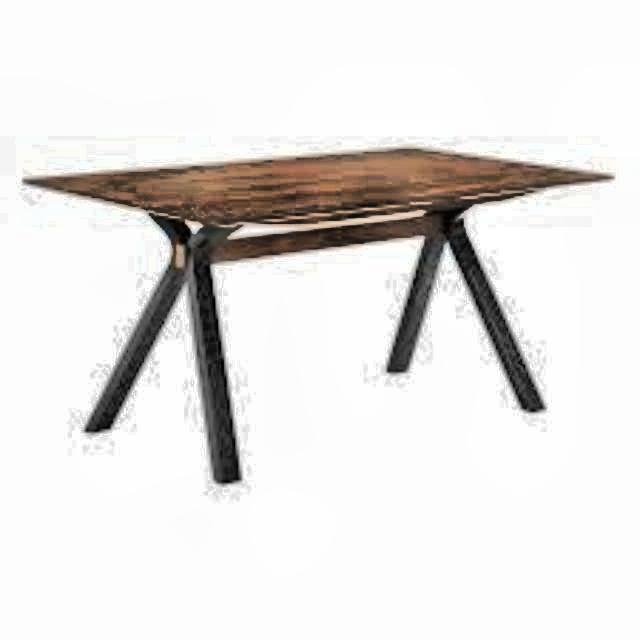mesa: (8, 132, 626, 492)
